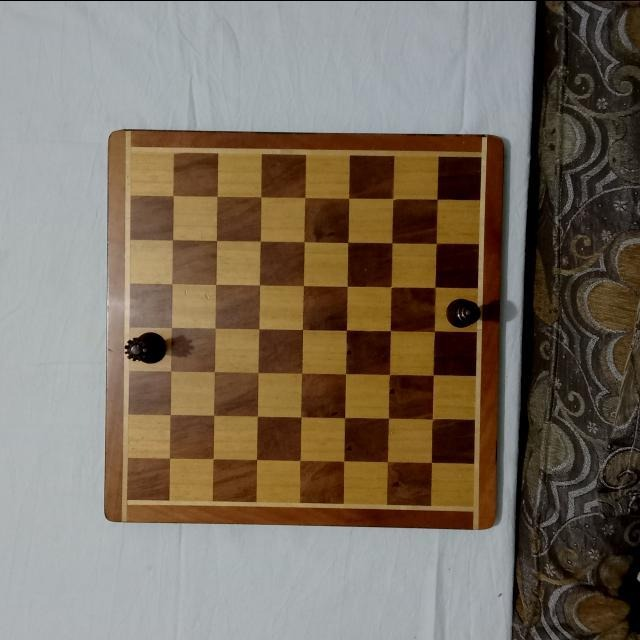black-king: (444, 295, 480, 328)
black-queen: (123, 328, 169, 364)
